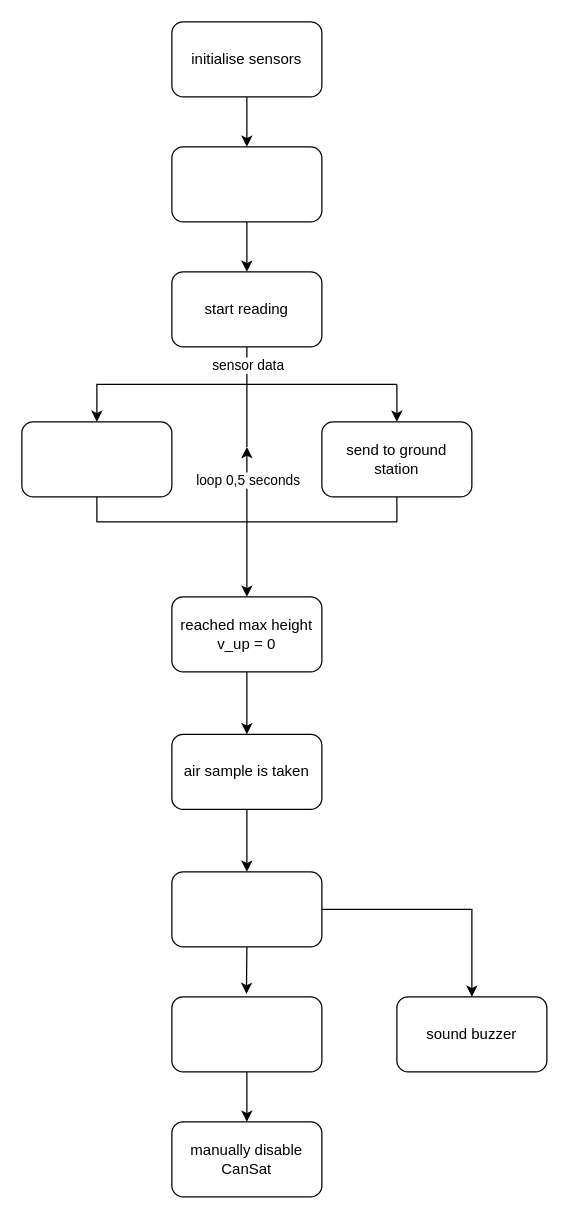
Image size: 569x1219. Some labels were removed from this diagram. Each missing label, with the centre of its shape:
"calculate relative position" belongs at [246,1034].
"landing" belongs at [246,909].
"LAUNCH" belongs at [246,184].
"write to csv file" belongs at [96,459].
